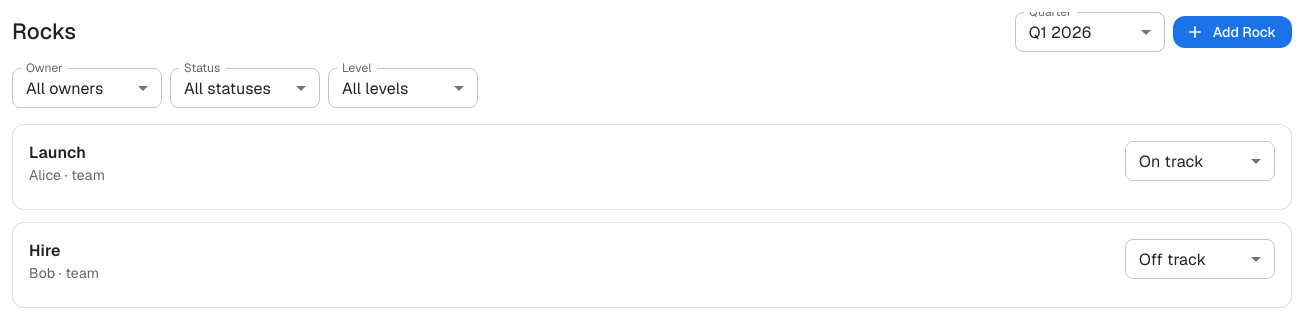
Test: RocksView › filters by status
Click the dropdown labelled "status": click(228, 88) x1=184 y1=78 x2=271 y2=98
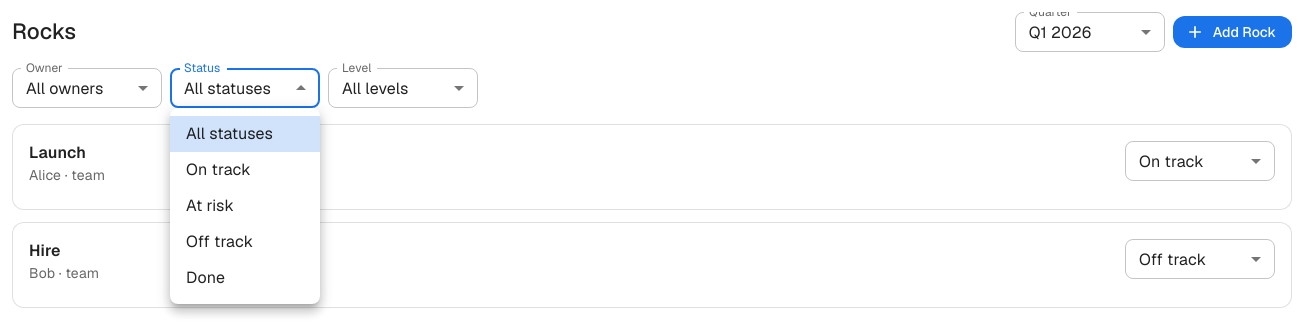
Click the option "Off track": click(220, 242) x1=186 y1=231 x2=253 y2=252
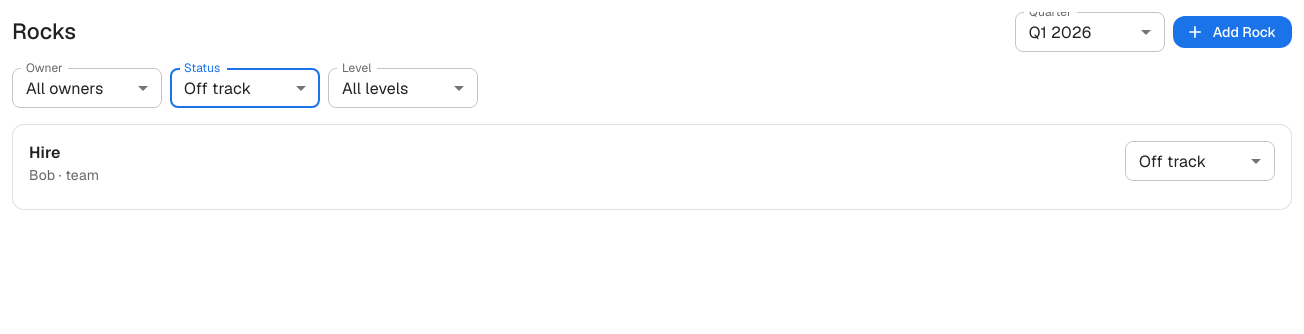
Expected: the link "Hire" is shown, x1=29 y1=142 x2=61 y2=163
Now the link "Launch" is gone
